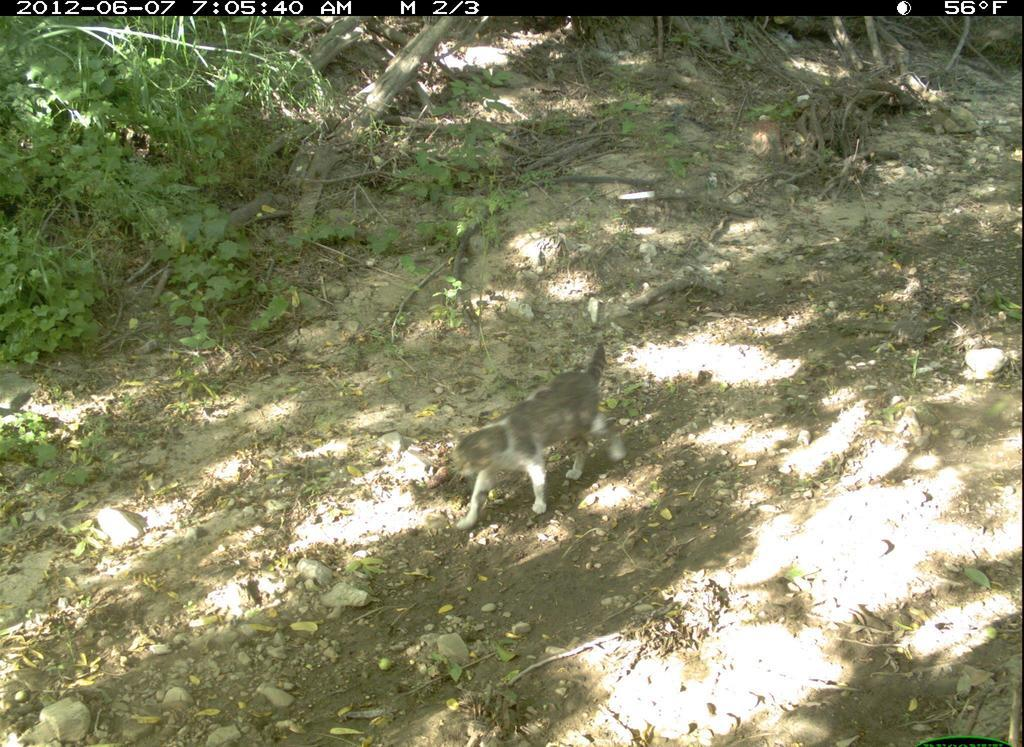cat: (445, 338, 638, 539)
